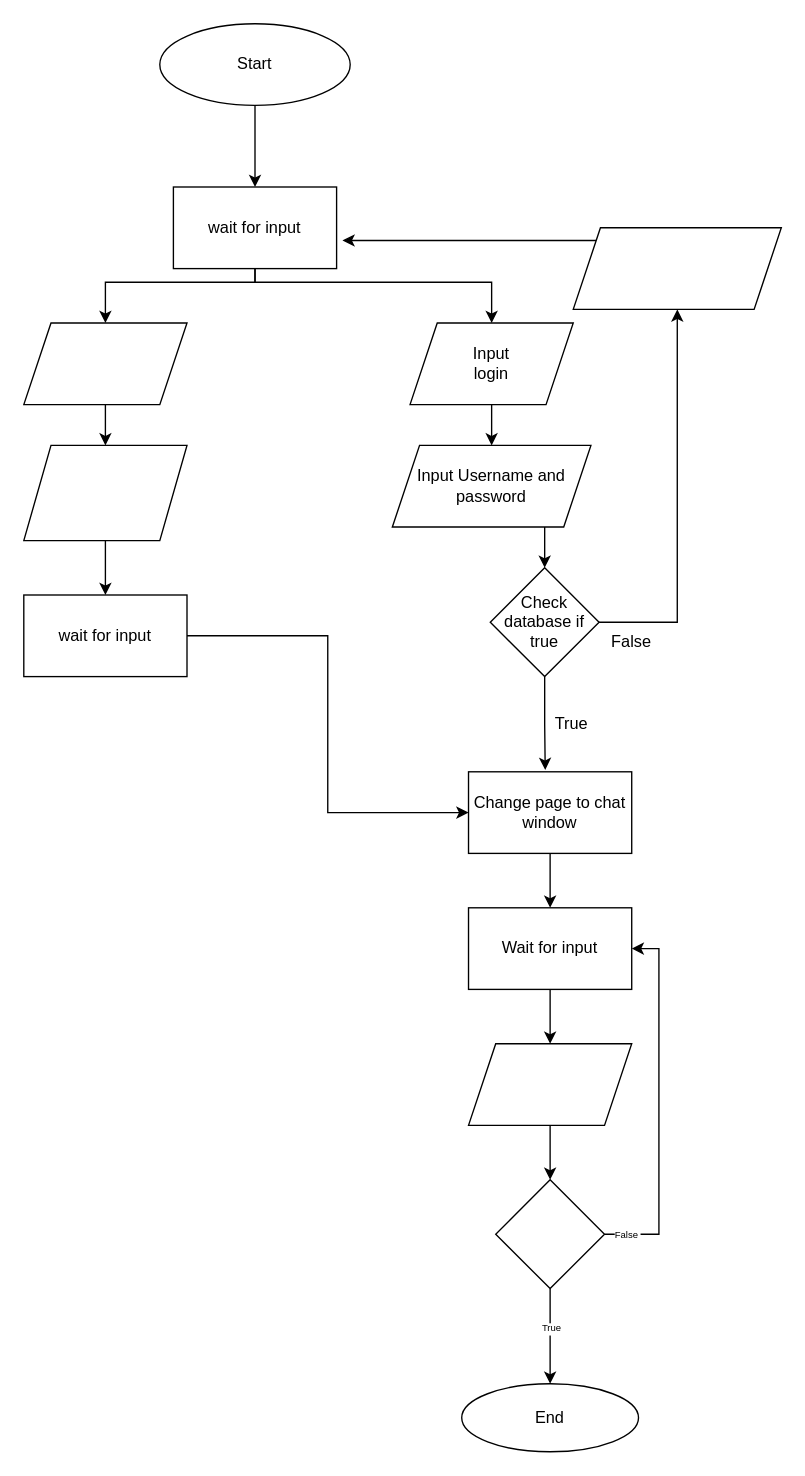
This 805x1476 diagram has some shape labels left out. The centre of each missing label's shape, as x and y in pixels:
"Input Message / Receive Message" belongs at pixel 549 1083.
"Input Name Email Password" belongs at pixel 104 492.
"Input register" belongs at pixel 104 363.
"Is disconnect button pressed" belongs at pixel 549 1233.
"Output User is not registered" belongs at pixel 676 267.
